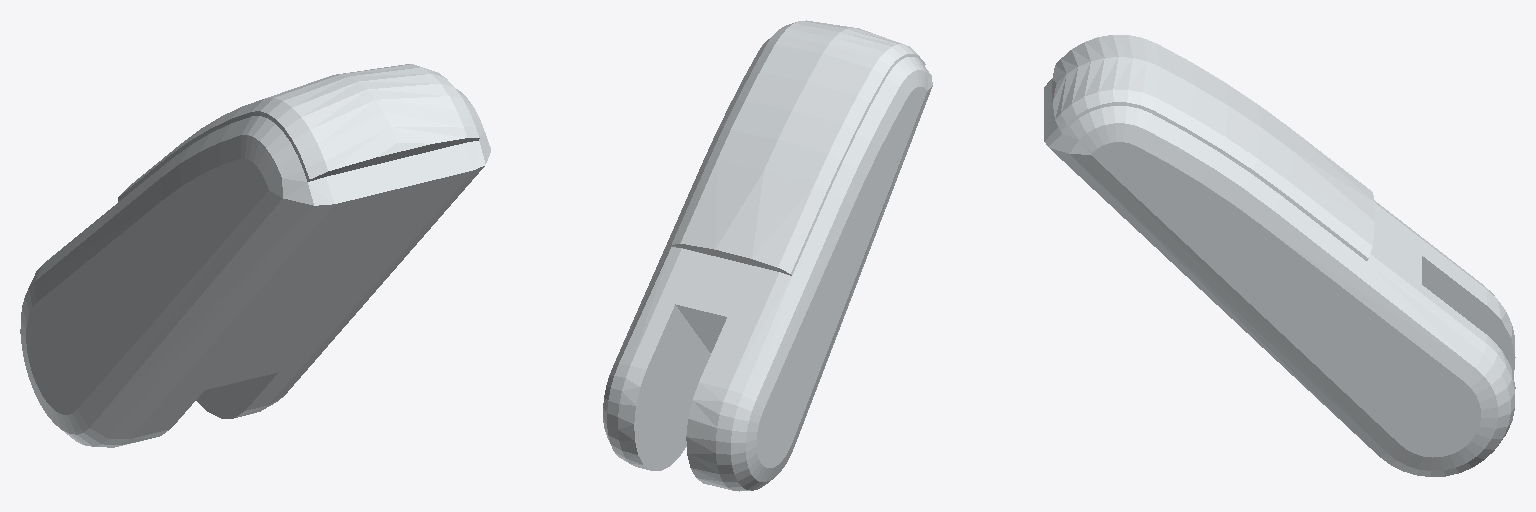
The robot description file, URDF, robot "bh280":
<?xml version="1.0" ?>
<!-- =================================================================================== -->
<!-- |    This document was autogenerated by xacro from [local-path]/dev/catkin_workspaces/herb_description/src/herb_description/robots/bh280_standalone.urdf.xacro | -->
<!-- |    EDITING THIS FILE BY HAND IS NOT RECOMMENDED                                 | -->
<!-- =================================================================================== -->
<robot name="bh280" xmlns:xacro="http://www.ros.org/wiki/xacro">
  <link name="/hand_base">
    <visual>
      <origin rpy="0 0 0" xyz="0 0 0"/>
      <geometry>
        <mesh filename="package://herb_description/meshes/bh280/hand_base.dae"/>
      </geometry>
      <material name="">
        <color rgba="0.752941176470588 0.752941176470588 0.752941176470588 1"/>
      </material>
    </visual>
    <geometry_group name="fine_collision">
      <origin rpy="0 0 0" xyz="0 0 0"/>
      <geometry>
        <mesh filename="package://herb_description/meshes/bh280/hand_base.STL"/>
      </geometry>
    </geometry_group>
    <inertial>
      <origin xyz="5.0019e-005 -0.0044561 0.037268"/>
      <mass value="0.60858"/>
      <inertia ixx="0.0006986" ixy="2.7577e-007" ixz="-7.8138e-007" iyx="0.0000000" iyy="0.00050354" iyz="-6.44e-005" izx="0.0000000" izy="0.00000000" izz="0.00062253"/>
    </inertial>
    <collision>
      <geometry>
        <mesh filename="package://herb_description/meshes/bh280/hand_base_collision.STL"/>
      </geometry>
    </collision>
  </link>
  <link name="/finger0_0">
    <visual>
      <origin rpy="0 0 0" xyz="0 0 0"/>
      <geometry>
        <mesh filename="package://herb_description/meshes/bh280/finger0_0.dae"/>
      </geometry>
      <material name="">
        <color rgba="0.752941176470588 0.752941176470588 0.752941176470588 1"/>
      </material>
    </visual>
    <geometry_group name="fine_collision">
      <origin rpy="0 0 0" xyz="0 0 0"/>
      <geometry>
        <mesh filename="package://herb_description/meshes/bh280/finger0_0.STL"/>
      </geometry>
    </geometry_group>
    <inertial>
      <origin xyz="0.030616 -7.3219e-005 -0.011201"/>
      <mass value="0.14109"/>
      <inertia ixx="2.0672e-005" ixy="2.6024e-007" ixz="6.3481e-006" iyx="0.000000000" iyy="7.4105e-005" iyz="1.7118e-008" izx="0.000000000" izy="0.000000000" izz="6.8207e-005"/>
    </inertial>
    <collision>
      <geometry>
        <mesh filename="package://herb_description/meshes/bh280/finger0_0_collision.STL"/>
      </geometry>
    </collision>
  </link>
  <joint name="/j00" type="revolute">
    <origin rpy="-9.27906974436996E-30 -2.56739074444568E-16 -1.5707963267949" xyz="-0.025 0 0.0754000000000003"/>
    <parent link="/hand_base"/>
    <child link="/finger0_0"/>
    <axis xyz="0 0 -1"/>
    <limit effort="0" lower="0" upper="3.14159265359" velocity="2.0"/>
  </joint>
  <link name="/finger0_1">
    <visual>
      <origin rpy="0 0 0" xyz="0 0 0"/>
      <geometry>
        <mesh filename="package://herb_description/meshes/bh280/finger0_1.dae"/>
      </geometry>
      <material name="">
        <color rgba="0.752941176470588 0.752941176470588 0.752941176470588 1"/>
      </material>
    </visual>
    <geometry_group name="fine_collision">
      <origin rpy="0 0 0" xyz="0 0 0"/>
      <geometry>
        <mesh filename="package://herb_description/meshes/bh280/finger0_1.STL"/>
      </geometry>
    </geometry_group>
    <inertial>
      <origin xyz="0.023133 0.00078642 0.00052792"/>
      <mass value="0.062139"/>
      <inertia ixx="4.8162e-006" ixy="5.7981e-007" ixz="-7.2483e-007" iyx="0.000000000" iyy="4.3317e-005" iyz="-2.6653e-009" izx="0.000000000" izy="0.000000000" izz="4.4441e-005"/>
    </inertial>
    <collision>
      <geometry>
        <mesh filename="package://herb_description/meshes/bh280/finger0_1_collision.STL"/>
      </geometry>
    </collision>
  </link>
  <joint name="/j01" type="revolute">
    <origin rpy="1.5707963267949 0 0" xyz="0.0500000000000007 0.000799999999999971 0"/>
    <parent link="/finger0_0"/>
    <child link="/finger0_1"/>
    <axis xyz="0 0 1"/>
    <limit effort="0" lower="0" upper="2.44346095279" velocity="2.0"/>
  </joint>
  <link name="/finger0_2">
    <visual>
      <origin rpy="0 0 0" xyz="0 0 0"/>
      <geometry>
        <mesh filename="package://herb_description/meshes/bh280/finger0_2.dae"/>
      </geometry>
      <material name="">
        <color rgba="0.898039215686275 0.917647058823529 0.929411764705882 1"/>
      </material>
    </visual>
    <geometry_group name="fine_collision">
      <origin rpy="0 0 0" xyz="0 0 0"/>
      <geometry>
        <mesh filename="package://herb_description/meshes/bh280/finger0_2.STL"/>
      </geometry>
    </geometry_group>
    <inertial>
      <origin xyz="0.02295 0.0010739 0.00041752"/>
      <mass value="0.04166"/>
      <inertia ixx="3.1199e-006" ixy="4.5115e-007" ixz="-2.9813e-007" iyx="0.000000000" iyy="1.6948e-005" iyz="-1.8635e-008" izx="0.000000000" izy="0.000000000" izz="1.5809e-005"/>
    </inertial>
    <collision>
      <geometry>
        <mesh filename="package://herb_description/meshes/bh280/finger0_2_collision.STL"/>
      </geometry>
    </collision>
  </link>
  <joint name="/j02" type="revolute">
    <origin rpy="-3.77533479986348E-14 -4.45260733378639E-14 0.698131700822416" xyz="0.069935684739622 0.00300000000000003 0.000200000000006934"/>
    <parent link="/finger0_1"/>
    <child link="/finger0_2"/>
    <axis xyz="0 0 1"/>
    <limit effort="0" lower="0" upper="0.837758040957" velocity="2.0"/>
    <mimic joint="/j01" multiplier="0.321428571429" offset="0.0"/>
  </joint>
  <link name="/finger1_0">
    <visual>
      <origin rpy="0 0 0" xyz="0 0 0"/>
      <geometry>
        <mesh filename="package://herb_description/meshes/bh280/finger1_0.dae"/>
      </geometry>
      <material name="">
        <color rgba="0.752941176470588 0.752941176470588 0.752941176470588 1"/>
      </material>
    </visual>
    <geometry_group name="fine_collision">
      <origin rpy="0 0 0" xyz="0 0 0"/>
      <geometry>
        <mesh filename="package://herb_description/meshes/bh280/finger1_0.STL"/>
      </geometry>
    </geometry_group>
    <inertial>
      <origin xyz="0.030616 -7.3219e-005 -0.011201"/>
      <mass value="0.14109"/>
      <inertia ixx="2.0672e-005" ixy="2.6024e-007" ixz="6.3481e-006" iyx="0.000000000" iyy="7.4105e-005" iyz="1.7118e-008" izx="0.000000000" izy="0.000000000" izz="6.8207e-005"/>
    </inertial>
    <collision>
      <geometry>
        <mesh filename="package://herb_description/meshes/bh280/finger1_0_collision.STL"/>
      </geometry>
    </collision>
  </link>
  <joint name="/j10" type="revolute">
    <origin rpy="-9.2871E-30 -0.0058448 -1.5708" xyz="0.025 0 0.0754"/>
    <parent link="/hand_base"/>
    <child link="/finger1_0"/>
    <axis xyz="0.0058448 0 0.99998"/>
    <limit effort="0" lower="0" upper="3.14159265359" velocity="2.0"/>
    <mimic joint="/j00" multiplier="1" offset="0"/>
  </joint>
  <link name="/finger1_1">
    <visual>
      <origin rpy="0 0 0" xyz="0 0 0"/>
      <geometry>
        <mesh filename="package://herb_description/meshes/bh280/finger1_1.dae"/>
      </geometry>
      <material name="">
        <color rgba="0.752941176470588 0.752941176470588 0.752941176470588 1"/>
      </material>
    </visual>
    <geometry_group name="fine_collision">
      <origin rpy="0 0 0" xyz="0 0 0"/>
      <geometry>
        <mesh filename="package://herb_description/meshes/bh280/finger1_1.STL"/>
      </geometry>
    </geometry_group>
    <inertial>
      <origin xyz="0.023133 0.00078642 0.00052792"/>
      <mass value="0.062139"/>
      <inertia ixx="4.8162e-006" ixy="5.7981e-007" ixz="-7.2483e-007" iyx="0.000000000" iyy="4.3317e-005" iyz="-2.6653e-009" izx="0.000000000" izy="0.000000000" izz="4.4441e-005"/>
    </inertial>
    <collision>
      <geometry>
        <mesh filename="package://herb_description/meshes/bh280/finger1_1_collision.STL"/>
      </geometry>
    </collision>
  </link>
  <joint name="/j11" type="revolute">
    <origin rpy="1.5707963267949 0 -4.93038065763132E-32" xyz="0.0499991459461259 0.000799999999999367 -0.000292240753933679"/>
    <parent link="/finger1_0"/>
    <child link="/finger1_1"/>
    <axis xyz="0 0 1"/>
    <limit effort="0" lower="0" upper="2.44346095279" velocity="2.0"/>
  </joint>
  <link name="/finger1_2">
    <visual>
      <origin rpy="0 0 0" xyz="0 0 0"/>
      <geometry>
        <mesh filename="package://herb_description/meshes/bh280/finger1_2.dae"/>
      </geometry>
      <material name="">
        <color rgba="0.898039215686275 0.917647058823529 0.929411764705882 1"/>
      </material>
    </visual>
    <geometry_group name="fine_collision">
      <origin rpy="0 0 0" xyz="0 0 0"/>
      <geometry>
        <mesh filename="package://herb_description/meshes/bh280/finger1_2.STL"/>
      </geometry>
    </geometry_group>
    <inertial>
      <origin xyz="0.02295 0.0010739 0.00041752"/>
      <mass value="0.04166"/>
      <inertia ixx="3.1199e-006" ixy="4.5115e-007" ixz="-2.9813e-007" iyx="0.000000000" iyy="1.6948e-005" iyz="-1.8635e-008" izx="0.000000000" izy="0.000000000" izz="1.5809e-005"/>
    </inertial>
    <collision>
      <geometry>
        <mesh filename="package://herb_description/meshes/bh280/finger1_2_collision.STL"/>
      </geometry>
    </collision>
  </link>
  <joint name="/j12" type="revolute">
    <origin rpy="1.95799899548702E-16 2.29686057908074E-16 0.700079983587682" xyz="0.0699356847396015 0.00300000000003377 0.000199999999999378"/>
    <parent link="/finger1_1"/>
    <child link="/finger1_2"/>
    <axis xyz="0 0 1"/>
    <limit effort="0" lower="0" upper="0.837758040957" velocity="2.0"/>
    <mimic joint="/j11" multiplier="0.321428571429" offset="0.0"/>
  </joint>
  <link name="/finger2_1">
    <visual>
      <origin rpy="0 0 0" xyz="0 0 0"/>
      <geometry>
        <mesh filename="package://herb_description/meshes/bh280/finger2_1.dae"/>
      </geometry>
      <material name="">
        <color rgba="0.752941176470588 0.752941176470588 0.752941176470588 1"/>
      </material>
    </visual>
    <geometry_group name="fine_collision">
      <origin rpy="0 0 0" xyz="0 0 0"/>
      <geometry>
        <mesh filename="package://herb_description/meshes/bh280/finger2_1.STL"/>
      </geometry>
    </geometry_group>
    <inertial>
      <origin xyz="0.023133 0.00078642 0.00052792"/>
      <mass value="0.062139"/>
      <inertia ixx="4.8162e-006" ixy="5.7981e-007" ixz="-7.2483e-007" iyx="0.000000000" iyy="4.3317e-005" iyz="-2.6653e-009" izx="0.000000000" izy="0.000000000" izz="4.4441e-005"/>
    </inertial>
    <collision>
      <geometry>
        <mesh filename="package://herb_description/meshes/bh280/finger2_1_collision.STL"/>
      </geometry>
    </collision>
  </link>
  <joint name="/j21" type="revolute">
    <origin rpy="1.5707963267949 2.77555756156289E-17 1.5707963267949" xyz="-0.000799999999999992 0.05 0.0754000000000003"/>
    <parent link="/hand_base"/>
    <child link="/finger2_1"/>
    <axis xyz="0 0 1"/>
    <limit effort="0" lower="0" upper="2.44346095279" velocity="2.0"/>
  </joint>
  <link name="/finger2_2">
    <visual>
      <origin rpy="0 0 0" xyz="0 0 0"/>
      <geometry>
        <mesh filename="package://herb_description/meshes/bh280/finger2_2.dae"/>
      </geometry>
      <material name="">
        <color rgba="0.898039215686275 0.917647058823529 0.929411764705882 1"/>
      </material>
    </visual>
    <geometry_group name="fine_collision">
      <origin rpy="0 0 0" xyz="0 0 0"/>
      <geometry>
        <mesh filename="package://herb_description/meshes/bh280/finger2_2.STL"/>
      </geometry>
    </geometry_group>
    <inertial>
      <origin xyz="0.02295 0.0010739 0.00041752"/>
      <mass value="0.04166"/>
      <inertia ixx="3.1199e-006" ixy="4.5115e-007" ixz="-2.9813e-007" iyx="0.000000000" iyy="1.6948e-005" iyz="-1.8635e-008" izx="0.000000000" izy="0.000000000" izz="1.5809e-005"/>
    </inertial>
    <collision>
      <geometry>
        <mesh filename="package://herb_description/meshes/bh280/finger2_2_collision.STL"/>
      </geometry>
    </collision>
  </link>
  <joint name="/j22" type="revolute">
    <origin rpy="5.6276902721421E-16 5.75421399737176E-16 0.698131700797743" xyz="0.0699356847396236 0.00300000000000011 0.000199999999999993"/>
    <parent link="/finger2_1"/>
    <child link="/finger2_2"/>
    <axis xyz="0 0 1"/>
    <limit effort="0" lower="0" upper="0.837758040957" velocity="2.0"/>
    <mimic joint="/j21" multiplier="0.321428571429" offset="0.0"/>
  </joint>
</robot>

--- Render facts (derived) ---
3 views of the same robot in one strip: view 1: azimuth 30°, elevation 25°; view 2: azimuth 150°, elevation 25°; view 3: azimuth 270°, elevation 25° (orthographic).
Model bh280 with 9 links and 8 joints (8 revolute), rooted at /hand_base, posed every joint at zero.
Links seen in each view (by area): view 1: /finger1_2; view 2: /finger1_2; view 3: /finger1_2.
Link boxes in pixels (x1,y1,x2,y2): /finger1_2: [20, 64, 490, 447]; /finger1_2: [603, 20, 932, 491]; /finger1_2: [1044, 35, 1515, 476].
Bounding box of the posed robot: 0.023 × 0.0548 × 0.0501 m (x, y, z).
Meshes: 9 distinct files referenced, 1 mesh visuals loaded (1 Collada DAE); not drawn: 6 (reference not matched to a file when rendering), 2 (file found but could not be loaded).